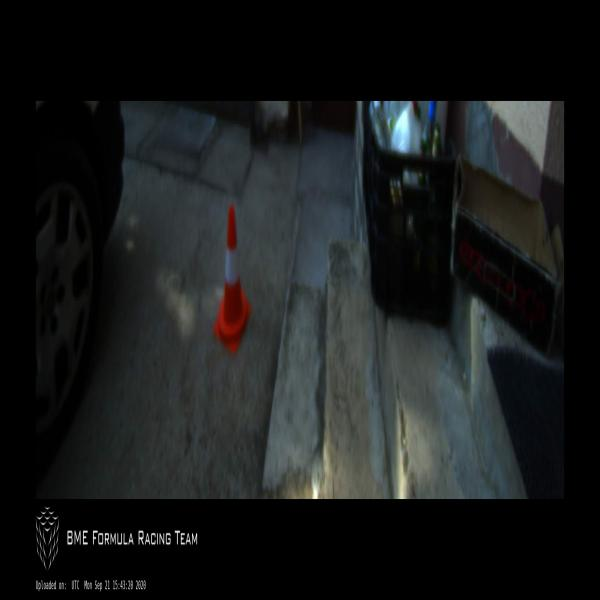orange_cone: (213, 205, 252, 357)
